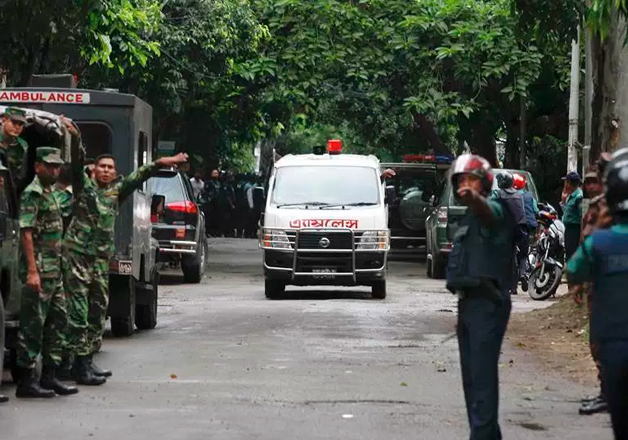ambulance: (1, 73, 160, 338), (254, 137, 391, 299)
car: (425, 167, 536, 286), (149, 166, 208, 281)
motorbike: (526, 204, 562, 301)
